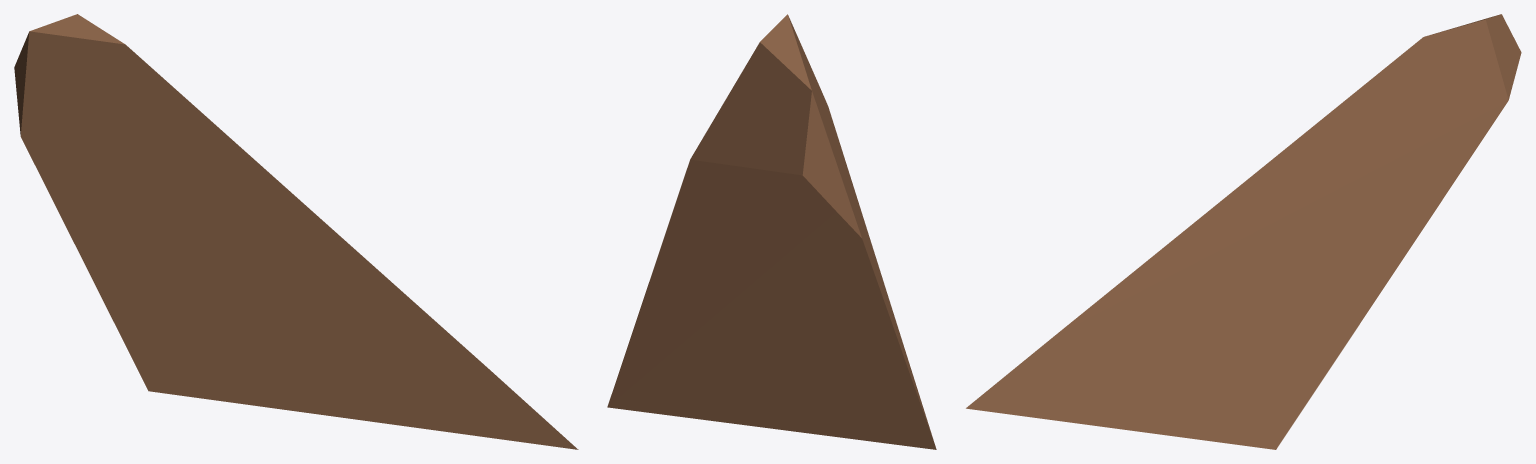
Rendered from WoodCellCube_003_cell_005.fbx.
3 views of the same model, side by side, from view 1: azimuth 30°, elevation 25°; view 2: azimuth 150°, elevation 25°; view 3: azimuth 270°, elevation 25° (orthographic). The views are drawn at different scales.
Parts seen in each view (by area): view 1: WoodCellCube_003_cell_005; view 2: WoodCellCube_003_cell_005; view 3: WoodCellCube_003_cell_005.
Part boxes in pixels (x1,y1,x2,y2): WoodCellCube_003_cell_005: [14, 14, 578, 449]; WoodCellCube_003_cell_005: [607, 14, 936, 449]; WoodCellCube_003_cell_005: [966, 14, 1521, 449].
Size of the model in its own units: 0.3241 by 0.2161 by 0.1867.
1 material, 1 textured.
